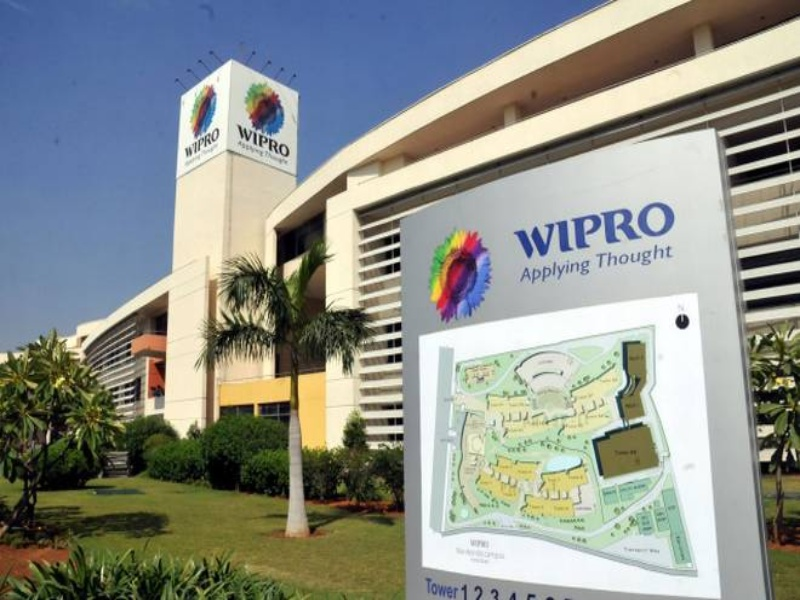wipro: (428, 229, 494, 322), (244, 78, 286, 136), (187, 87, 224, 139)
